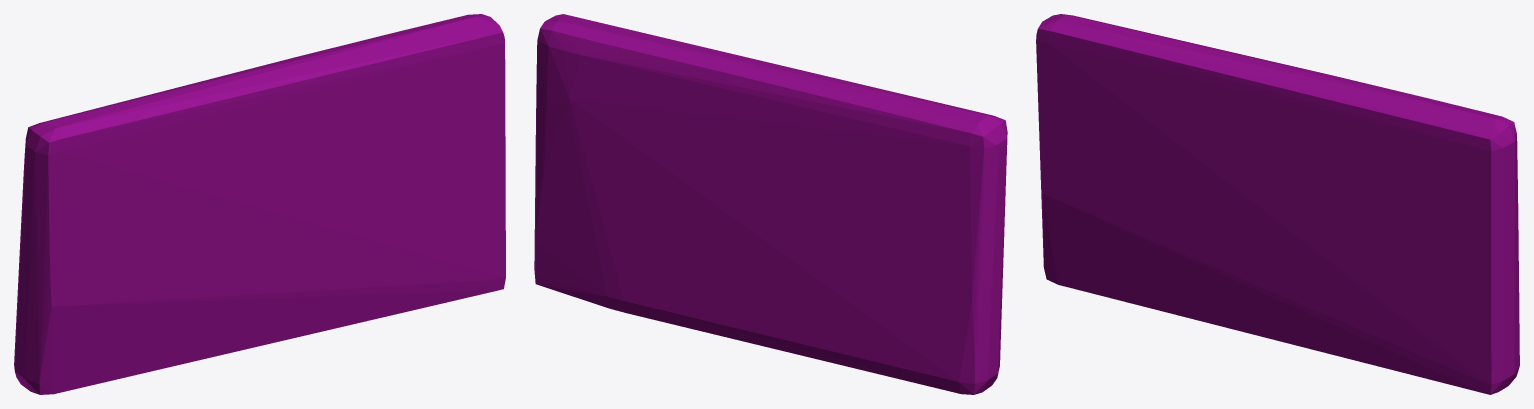
The model's file is left-hip-pitch-0_part_14.obj.
3 views of the same model, side by side, from view 1: azimuth 30°, elevation 25°; view 2: azimuth 150°, elevation 25°; view 3: azimuth 330°, elevation 25° (orthographic). The views are drawn at different scales.
Size of the model in its own units: 0.0662 by 0.0364 by 0.00901.
